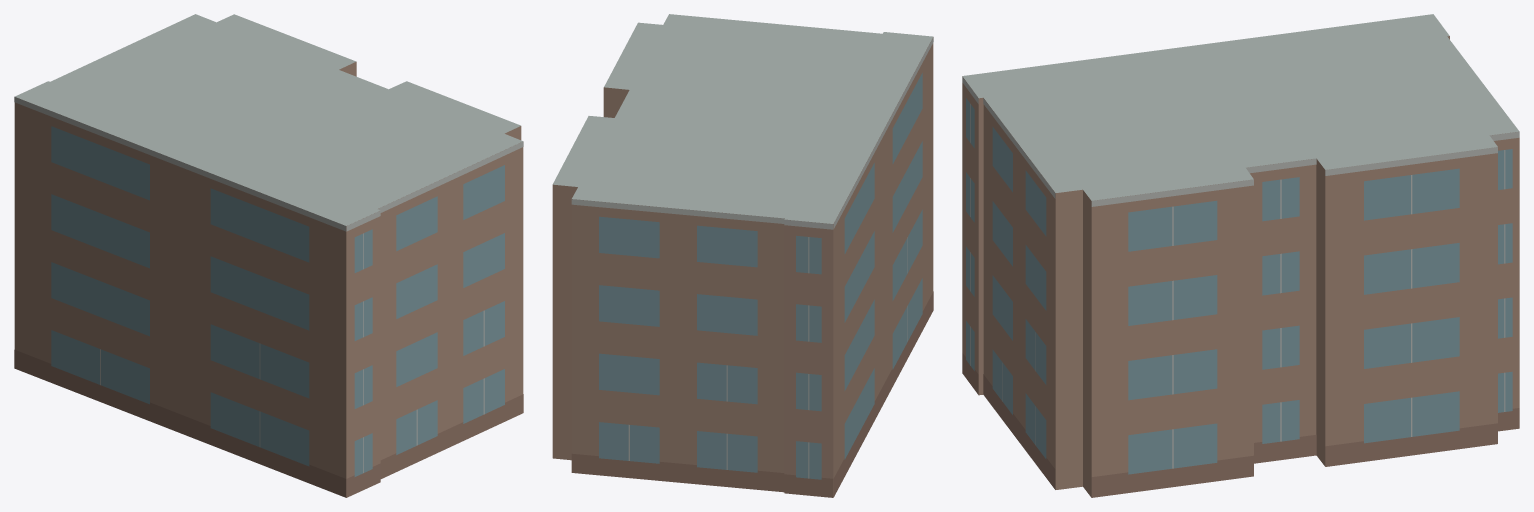
File: survey-upis-32622919.glb
The picture shows the model from 3 angles, left to right: view 1: azimuth 30°, elevation 25°; view 2: azimuth 150°, elevation 25°; view 3: azimuth 270°, elevation 25°; orthographic projection. The views are drawn at different scales.
Parts seen in each view (by area): view 1: survey-upis-32622919.tmp; view 2: survey-upis-32622919.tmp; view 3: survey-upis-32622919.tmp.
Boxes of the visible parts, box(x1,y1,x2,y2) form: survey-upis-32622919.tmp: box(14, 14, 523, 497); survey-upis-32622919.tmp: box(552, 14, 933, 497); survey-upis-32622919.tmp: box(962, 14, 1519, 497).
Bounding box in the file's own units: 15.93 × 11.8 × 20.08.
